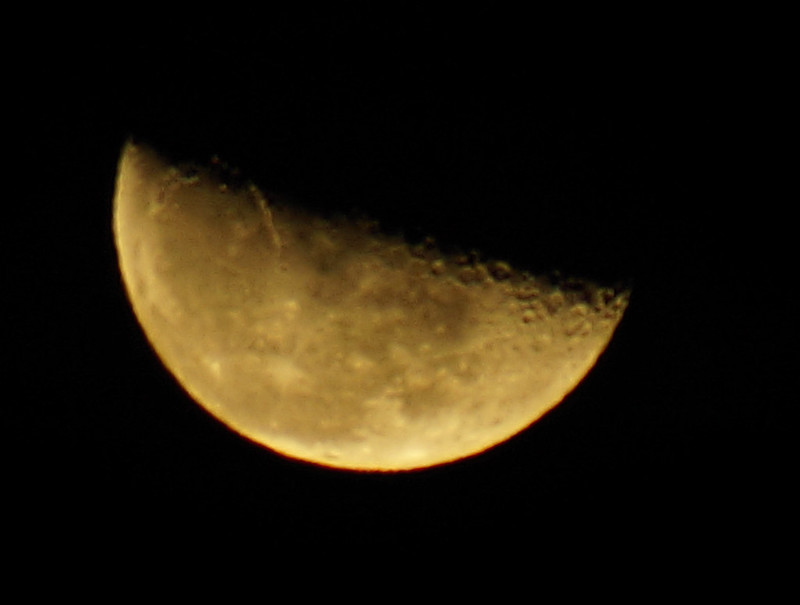crater: (267, 354, 308, 395), (478, 255, 518, 291), (523, 328, 555, 365), (261, 254, 296, 282)
